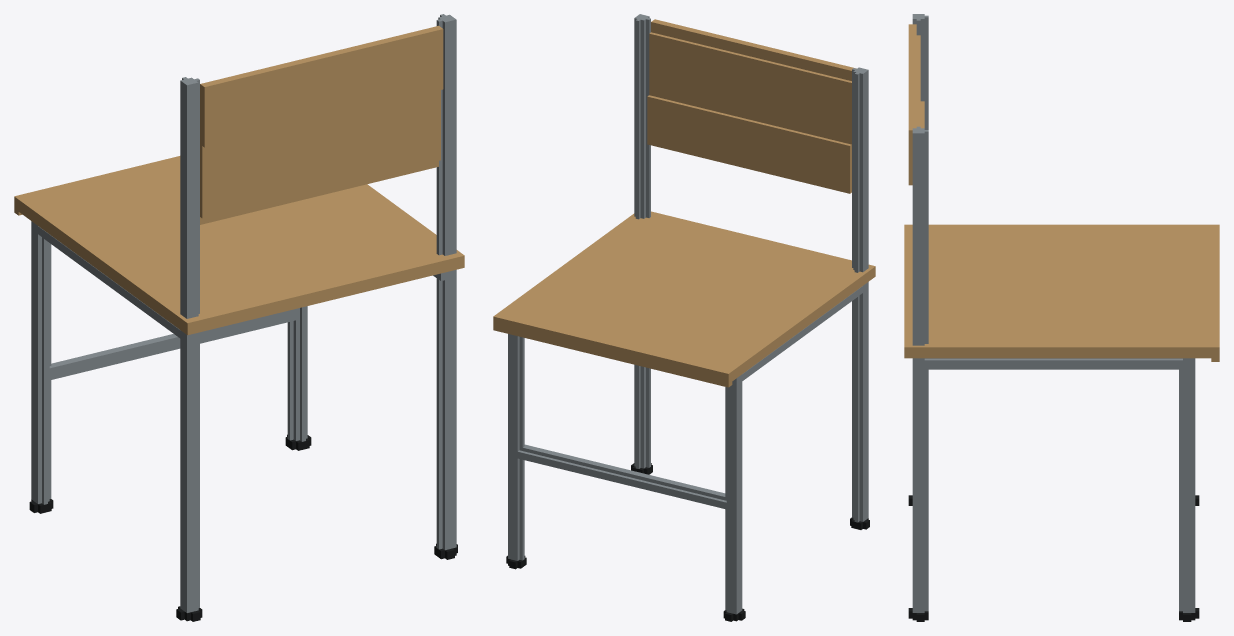
File: chair_plywood.glb
3 views of the same model, side by side, from view 1: azimuth 30°, elevation 25°; view 2: azimuth 150°, elevation 25°; view 3: azimuth 270°, elevation 25° (orthographic). The views are drawn at different scales.
Visible parts, largest first — view 1: chair_plywood:compound; view 2: chair_plywood:compound; view 3: chair_plywood:compound.
Boxes of the visible parts, x1,y1,x2,y2 form: chair_plywood:compound: (14, 14, 464, 621); chair_plywood:compound: (493, 14, 875, 621); chair_plywood:compound: (904, 14, 1219, 621).
Size of the model in its own units: 0.432 by 0.798 by 0.468.
